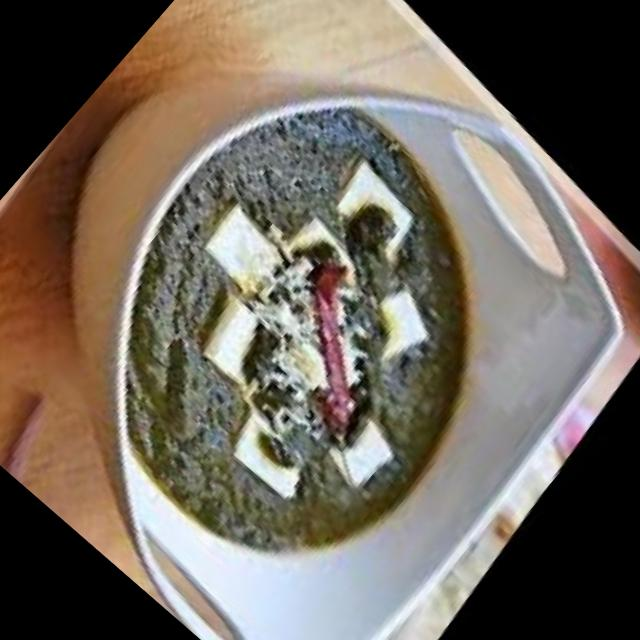palak_paneer: (10, 34, 607, 636)
